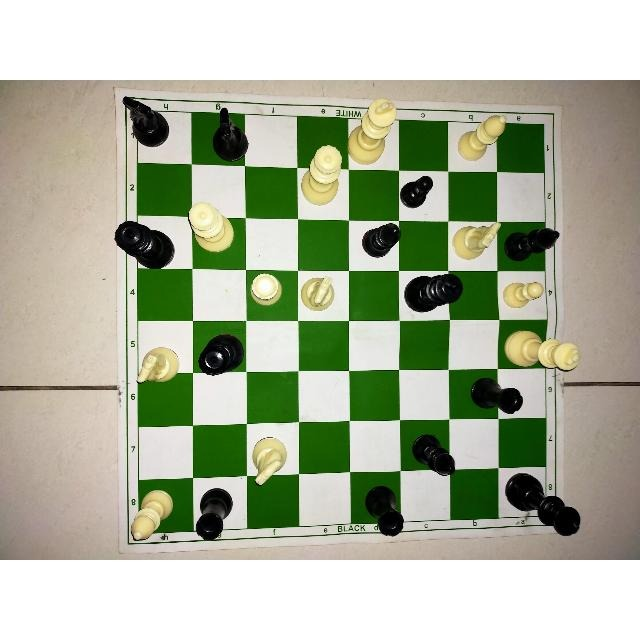black-bishop: (410, 431, 460, 481), (498, 222, 559, 262), (358, 219, 405, 260)
black-king: (503, 472, 583, 538), (402, 265, 464, 314)
black-knight: (118, 90, 173, 152), (204, 105, 254, 163)
black-pawn: (395, 173, 437, 212)
black-queen: (114, 219, 178, 269), (198, 332, 246, 380)
black-rook: (192, 485, 238, 546), (362, 482, 408, 536), (471, 375, 528, 417)
white-bishop: (128, 481, 178, 545), (456, 108, 510, 164)
white-king: (504, 325, 582, 379), (345, 95, 399, 167)
white-knight: (248, 431, 290, 489), (137, 340, 181, 395), (452, 220, 502, 267), (299, 276, 337, 312)
white-pawn: (499, 277, 546, 310)
white-queen: (300, 142, 345, 210), (186, 202, 236, 254)
white-rook: (249, 271, 286, 309)
